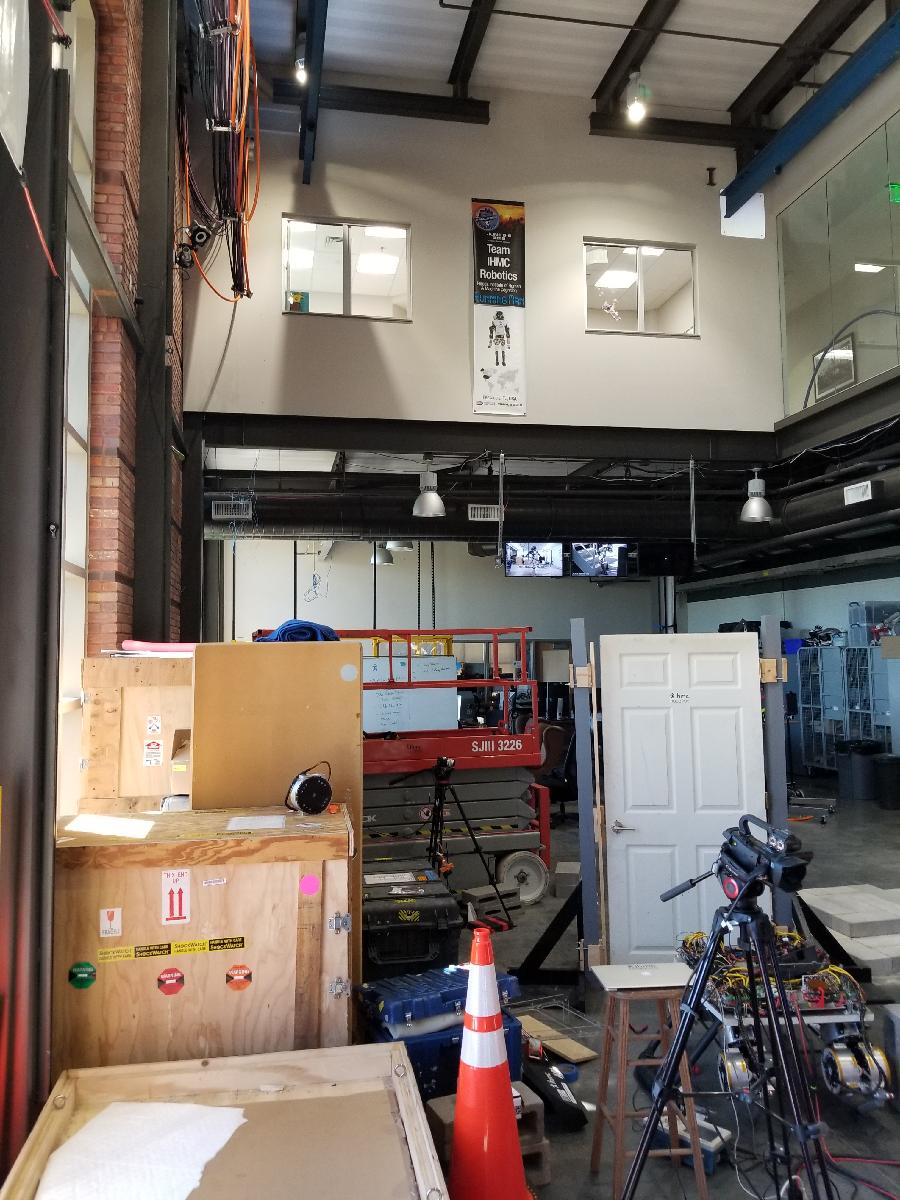door: (595, 630, 776, 975)
doorHandle: (613, 819, 645, 840)
